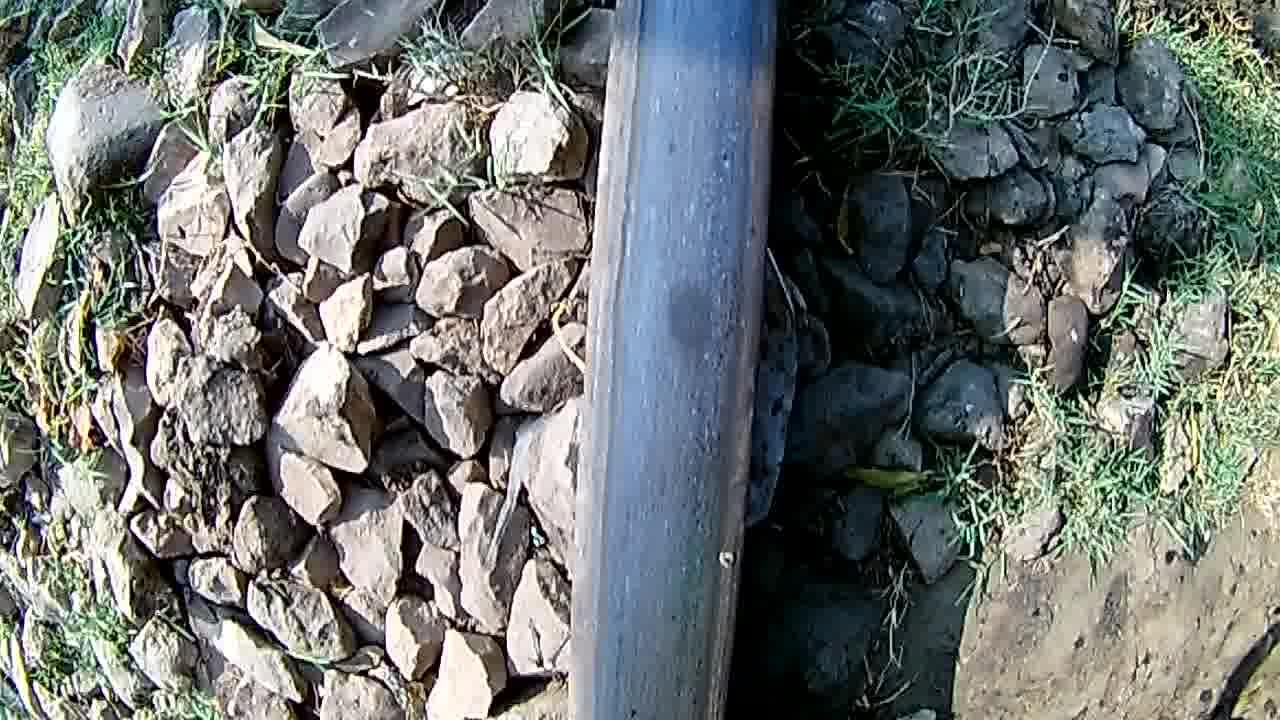bolt_missing: (617, 213, 747, 466)
